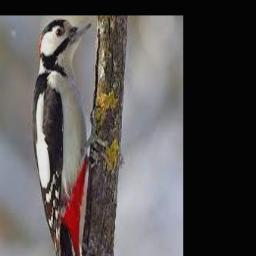Woodpecker: (32, 19, 103, 256)
